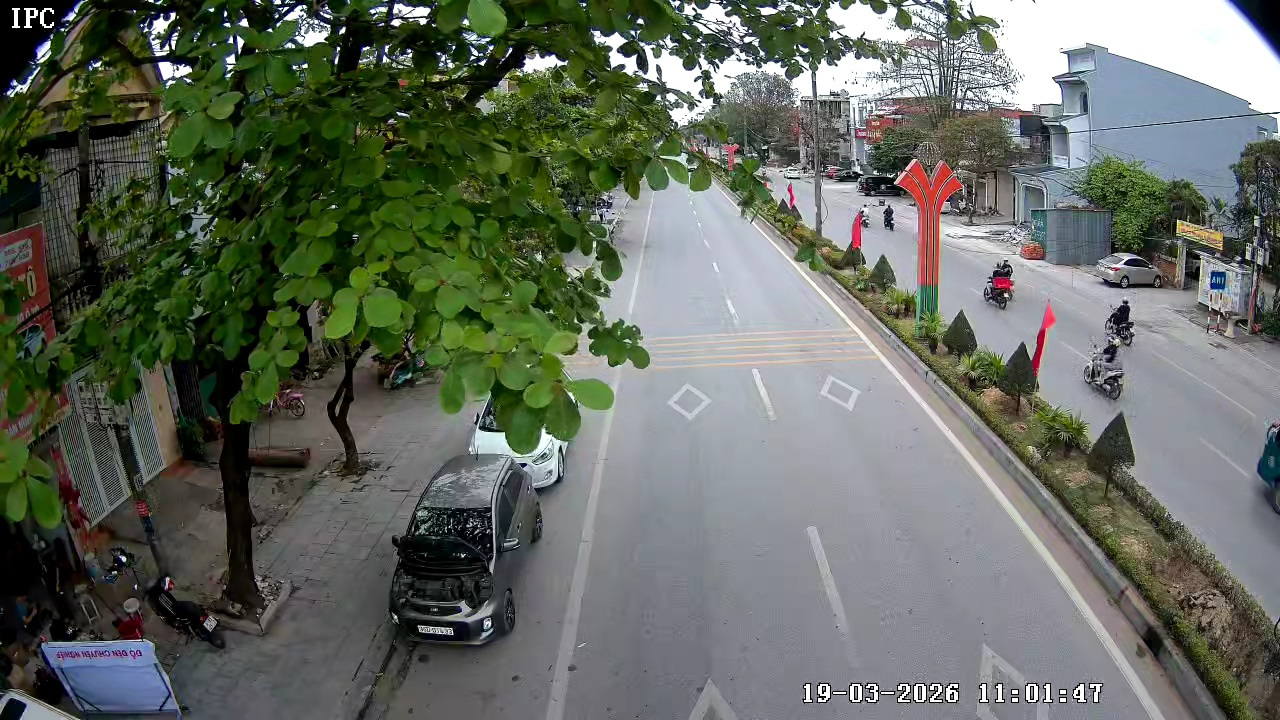car: (387, 451, 545, 647), (1095, 250, 1164, 289)
motorbike: (1082, 330, 1127, 401), (983, 258, 1017, 311), (1106, 297, 1136, 349)
